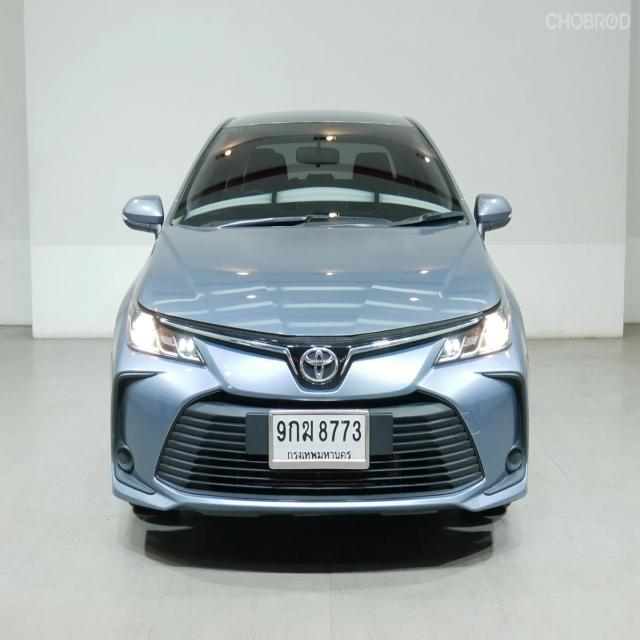license_plate: (268, 406, 370, 472)
